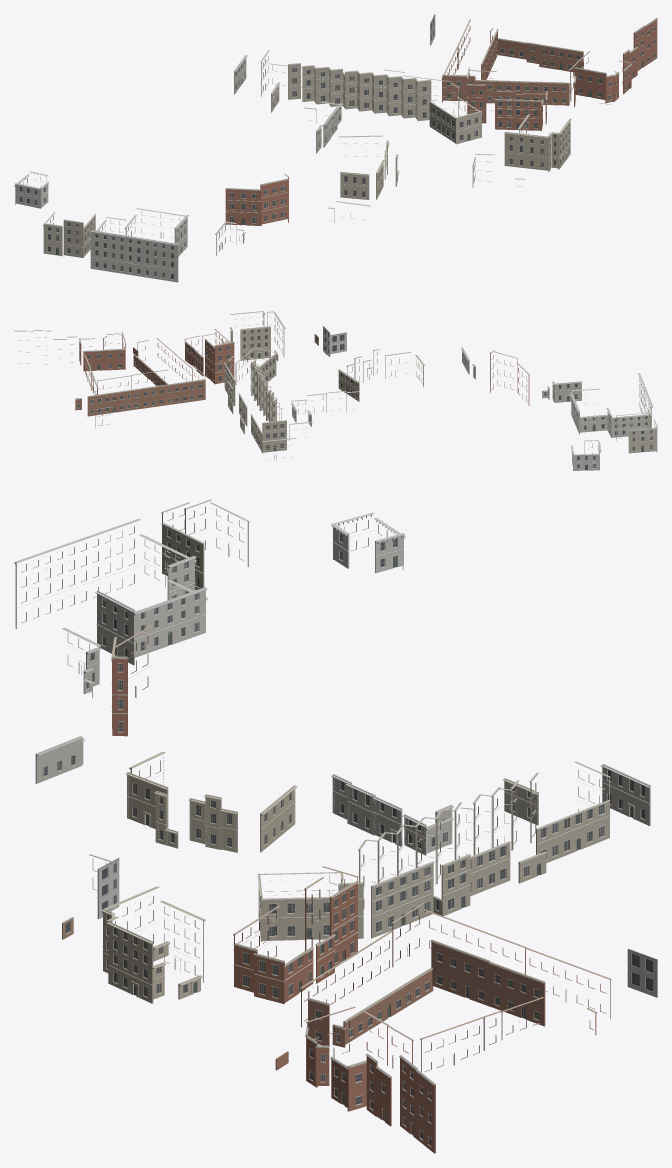
3 renders of one model, top to bottom at view 1: azimuth 30°, elevation 25°; view 2: azimuth 150°, elevation 25°; view 3: azimuth 270°, elevation 25°, orthographic. The views are drawn at different scales.
Visible parts, largest first — view 1: f:way/23783968, f:way/127761108, f:way/137975129, f:way/139269917, f:way/137995630, f:way/137995628, f:way/137975132, f:way/136605790, f:way/137975133, f:way/137995633, f:way/146204615, f:way/235552116 (+2 smaller); view 2: f:way/23783968, f:way/137975133, f:way/127761108, f:way/137995628, f:way/137995630, f:way/137975129, f:way/137995633, f:way/127761112, f:way/1428138683, f:way/137975132, f:way/235552116, f:way/139269852 (+3 smaller); view 3: f:way/23783968, f:way/127761108, f:way/137975129, f:way/137995628, f:way/137975133, f:way/137995633, f:way/137995630, f:way/137995642, f:way/137975132, f:way/127761112, f:way/139269853, f:way/235552116 (+5 smaller).
Part boxes in pixels (x1,y1,x2,y2): f:way/23783968: (260,50,482,144); f:way/127761108: (89,208,188,282); f:way/137975129: (569,18,657,103); f:way/139269917: (225,173,289,225); f:way/137995630: (504,114,571,171); f:way/137995628: (466,67,547,131); f:way/137975132: (475,76,576,107); f:way/136605790: (489,28,583,71); f:way/137975133: (441,19,498,102); f:way/137995633: (339,135,399,199); f:way/146204615: (63,214,96,257); f:way/235552116: (14,171,49,208); f:way/23783968: (224,347,286,453); f:way/137975133: (87,365,206,416); f:way/127761108: (570,373,653,437); f:way/137995628: (184,328,234,384); f:way/137995630: (221,311,285,361); f:way/137975129: (14,330,126,371); f:way/137995633: (337,349,424,401); f:way/127761112: (461,347,582,402); f:way/1428138683: (628,419,657,453); f:way/137975132: (133,338,193,385); f:way/235552116: (570,440,601,470); f:way/139269852: (323,326,346,356); f:way/23783968: (257,761,610,941); f:way/127761108: (14,519,207,665); f:way/137975129: (305,1006,435,1153); f:way/137995628: (233,866,358,1003); f:way/137975133: (391,903,611,1026); f:way/137995633: (125,751,297,852); f:way/137995630: (101,886,205,1003); f:way/137995642: (331,774,453,855); f:way/137975132: (300,930,433,1047); f:way/127761112: (35,628,101,783); f:way/139269853: (600,764,650,825); f:way/235552116: (331,512,405,573).
Size of the model in its own units: 242 by 21.33 by 115.
